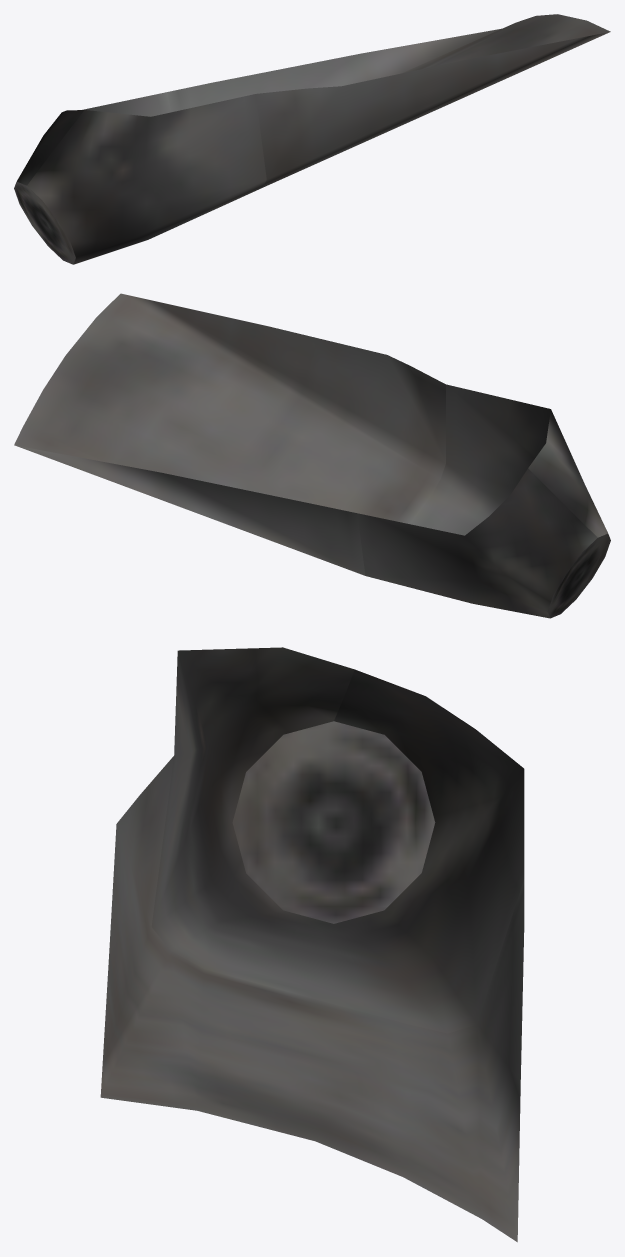
Rendered from f15e_RefuelOn_SM.FBX.
3 views of the same model, one above another, from view 1: azimuth 30°, elevation 25°; view 2: azimuth 150°, elevation 25°; view 3: azimuth 270°, elevation 25° (orthographic). The views are drawn at different scales.
Visible parts, largest first — view 1: f15e_RefuelOn_SM; view 2: f15e_RefuelOn_SM; view 3: f15e_RefuelOn_SM.
Part boxes in pixels (x1,y1,x2,y2): f15e_RefuelOn_SM: [14, 14, 610, 264]; f15e_RefuelOn_SM: [14, 293, 610, 618]; f15e_RefuelOn_SM: [100, 647, 524, 1242].
Size of the model in its own units: 9.97 by 2.91 by 3.48.
1 material, 1 textured.
